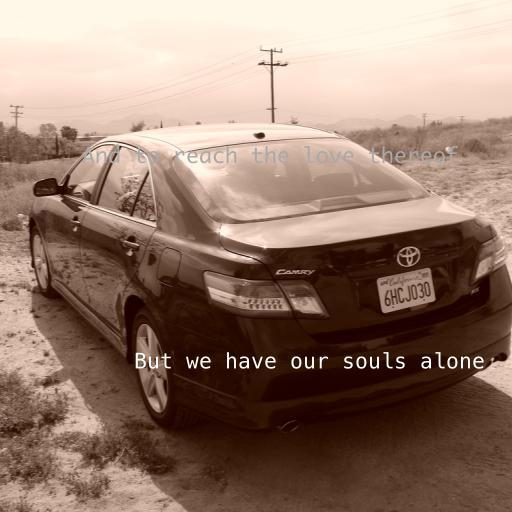Menlo: (133, 352, 485, 369)
Monaco: (81, 145, 459, 164)
